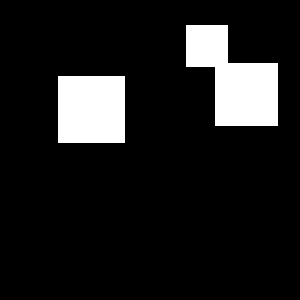circle: (58, 76, 125, 143), (215, 63, 278, 126), (186, 25, 228, 67)
